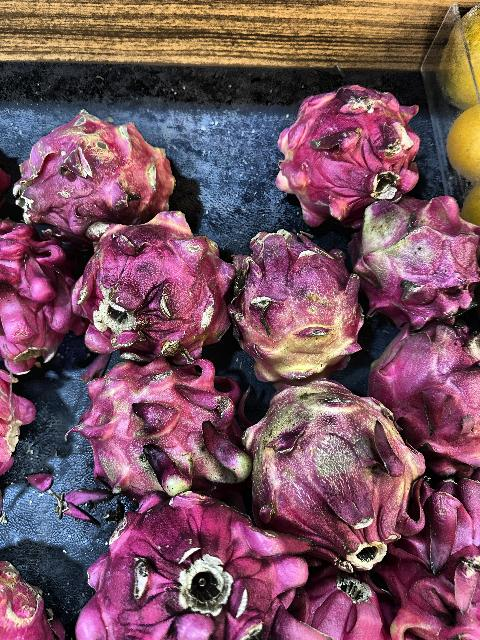buah-naga-belum-matang: (244, 370, 434, 558), (74, 358, 256, 504), (225, 225, 358, 379), (76, 221, 234, 349), (18, 118, 180, 226), (352, 199, 480, 325)
buah-naga-matang: (76, 488, 314, 640), (275, 77, 411, 211), (370, 316, 480, 466), (0, 209, 78, 379), (286, 566, 394, 640), (390, 560, 480, 636), (404, 476, 480, 552)
